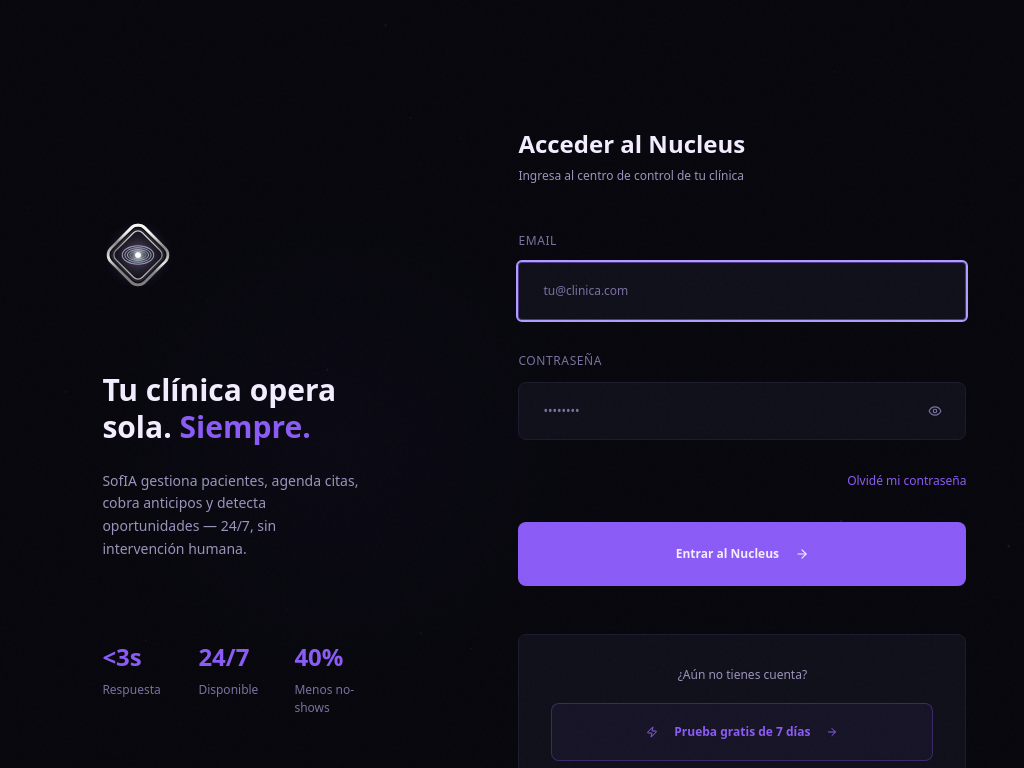
LoginPage › should disable the submit button while loading
In the field with placeholder "tu@clinica.com": (742, 291) [518,262,966,320], type "doc@clinica.com"
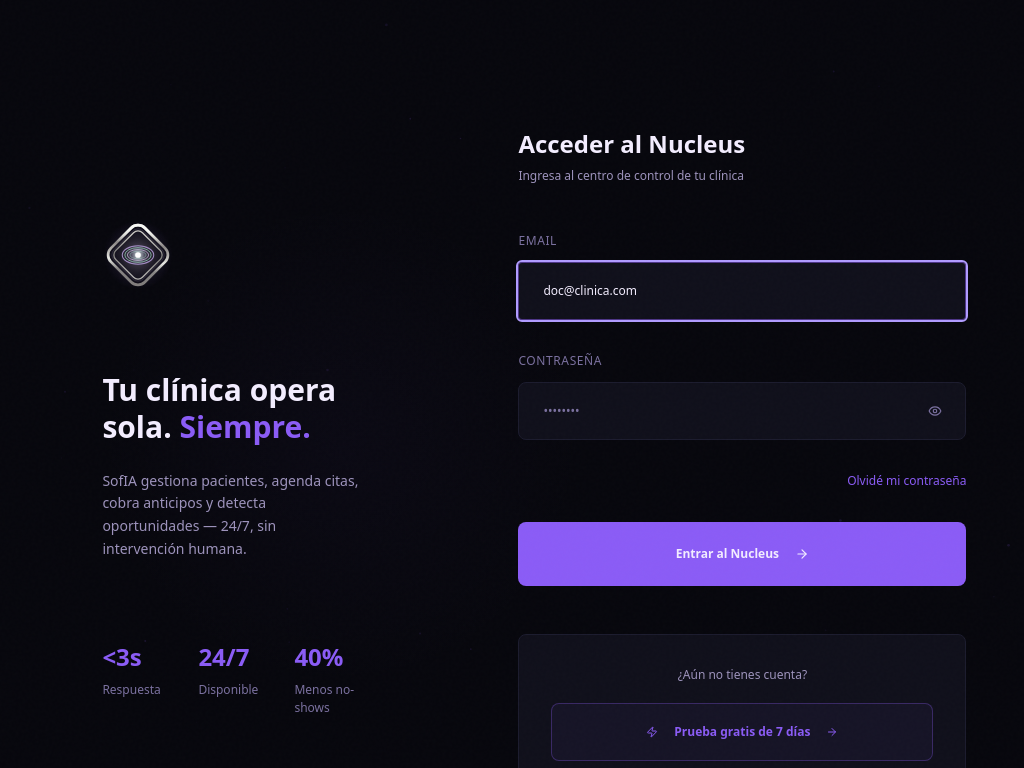
In the password field with placeholder "••••••••": (742, 411) [518,382,966,440], type "pass"
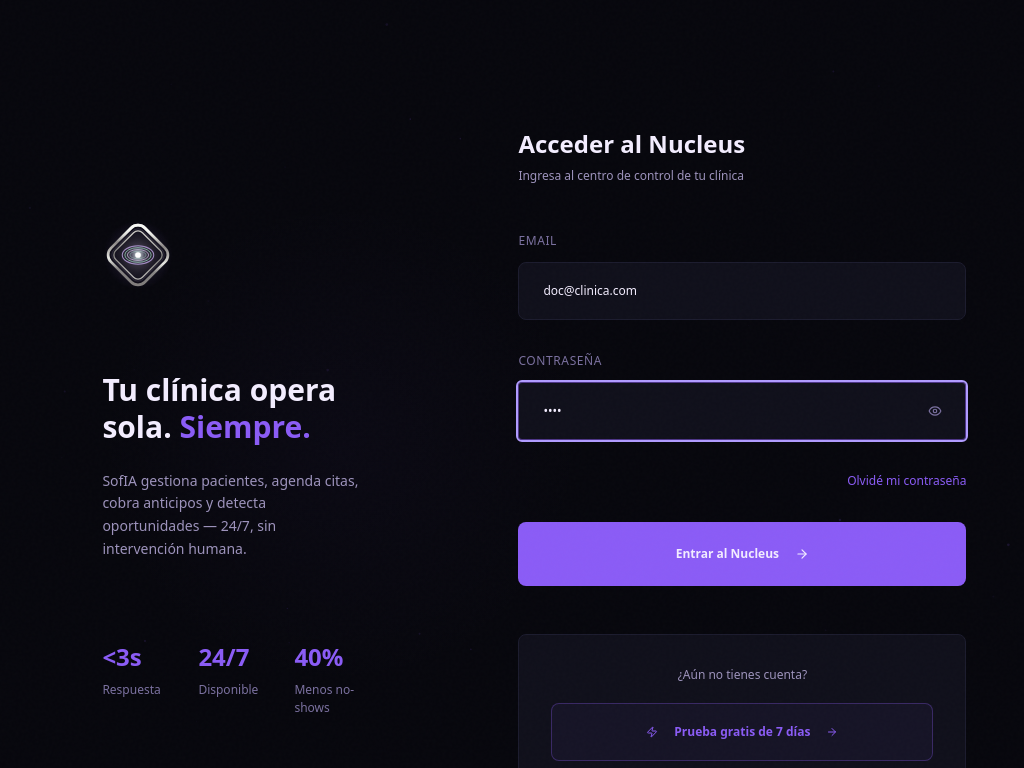
Click the button "Entrar al Nucleus": (742, 554) [518,522,966,586]
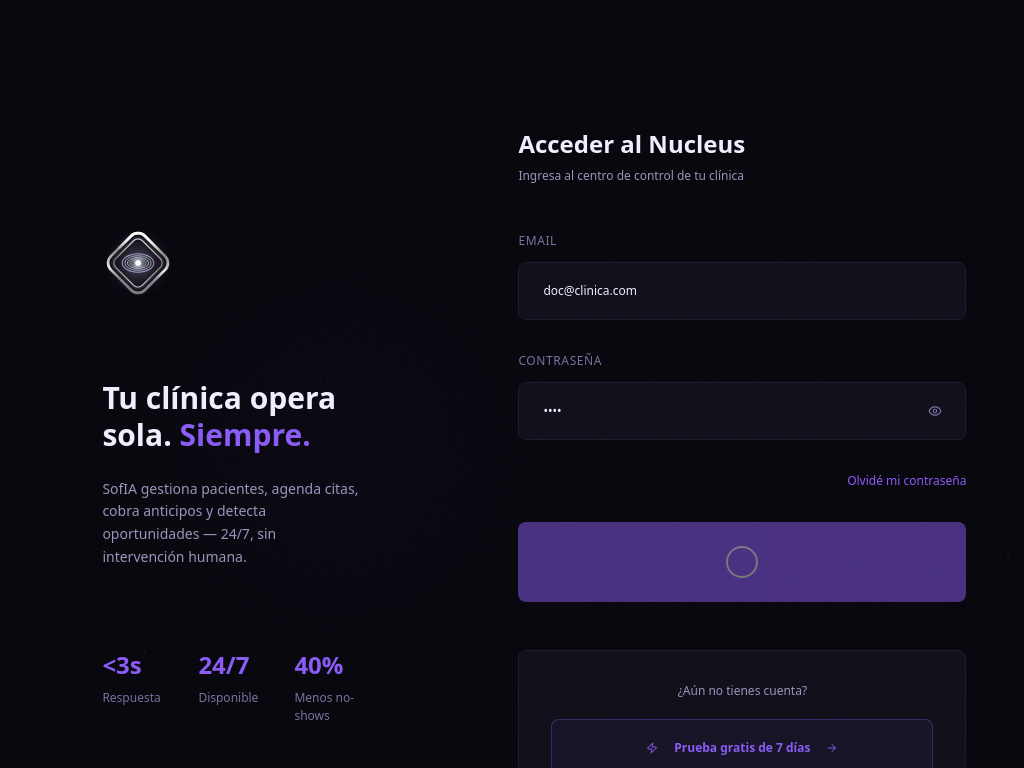
expect the 2nd button is disabled: met, box [518,522,966,602]
